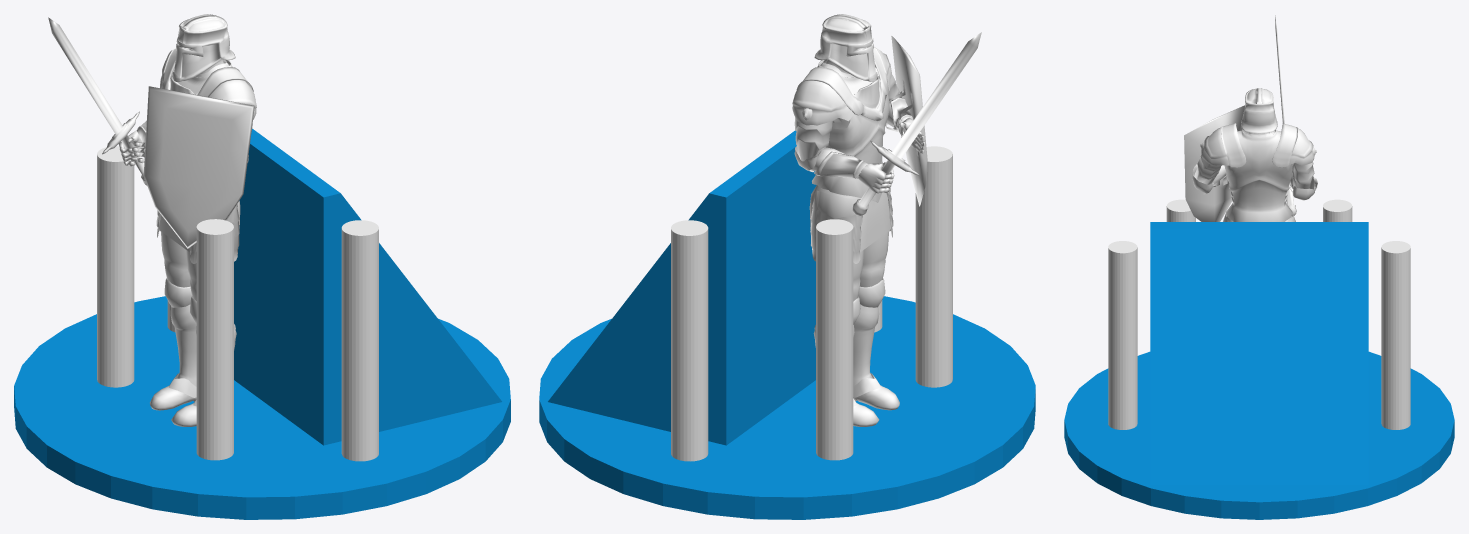
The model's file is EmptyCharacter.fbx.
The picture shows the model from 3 angles, left to right: view 1: azimuth 30°, elevation 25°; view 2: azimuth 150°, elevation 25°; view 3: azimuth 270°, elevation 25°; orthographic projection. The views are drawn at different scales.
Visible parts, largest first — view 1: EmptyPiece; view 2: EmptyPiece; view 3: EmptyPiece.
Part boxes in pixels (box(x1,y1,x2,y2)): EmptyPiece: box(14, 14, 510, 519); EmptyPiece: box(539, 14, 1035, 519); EmptyPiece: box(1064, 15, 1454, 519).
Size of the model in its own units: 180 by 176 by 180.
